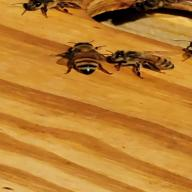Bee: (57, 39, 113, 79), (111, 46, 181, 77)
